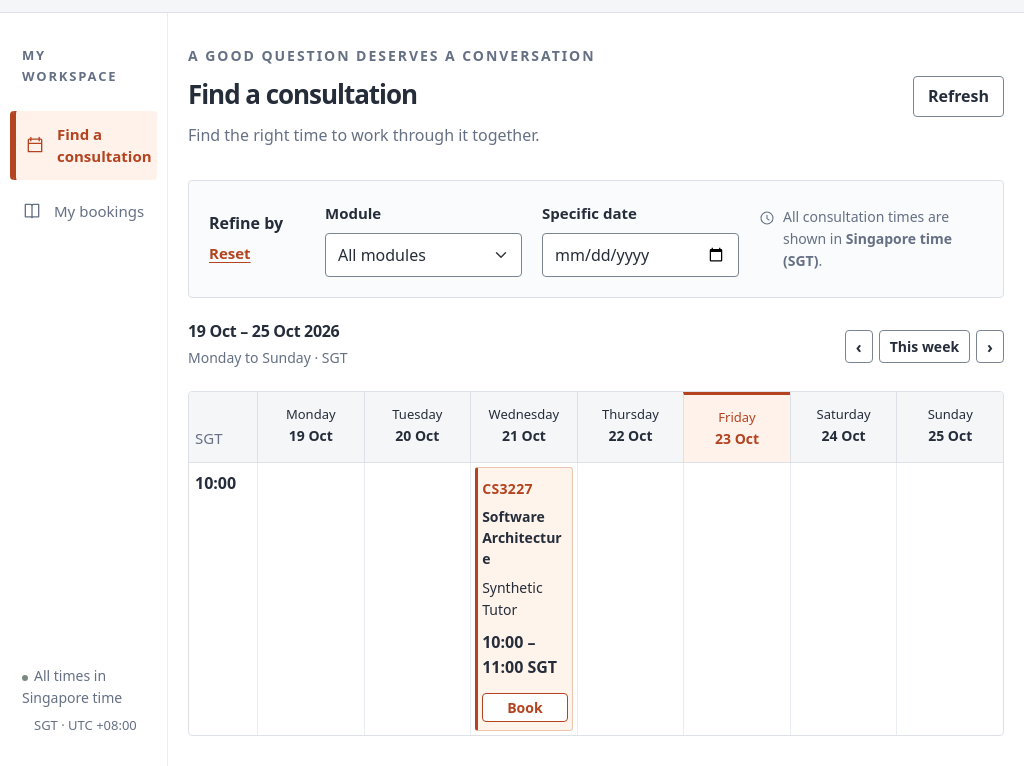
Test: FE2-BOOK BOOKING_OVERLAP has distinct safe guidance, refresh and no replay
(page scrolled)
Click the button "Book" at x=525, y=708, box [482, 693, 568, 722]
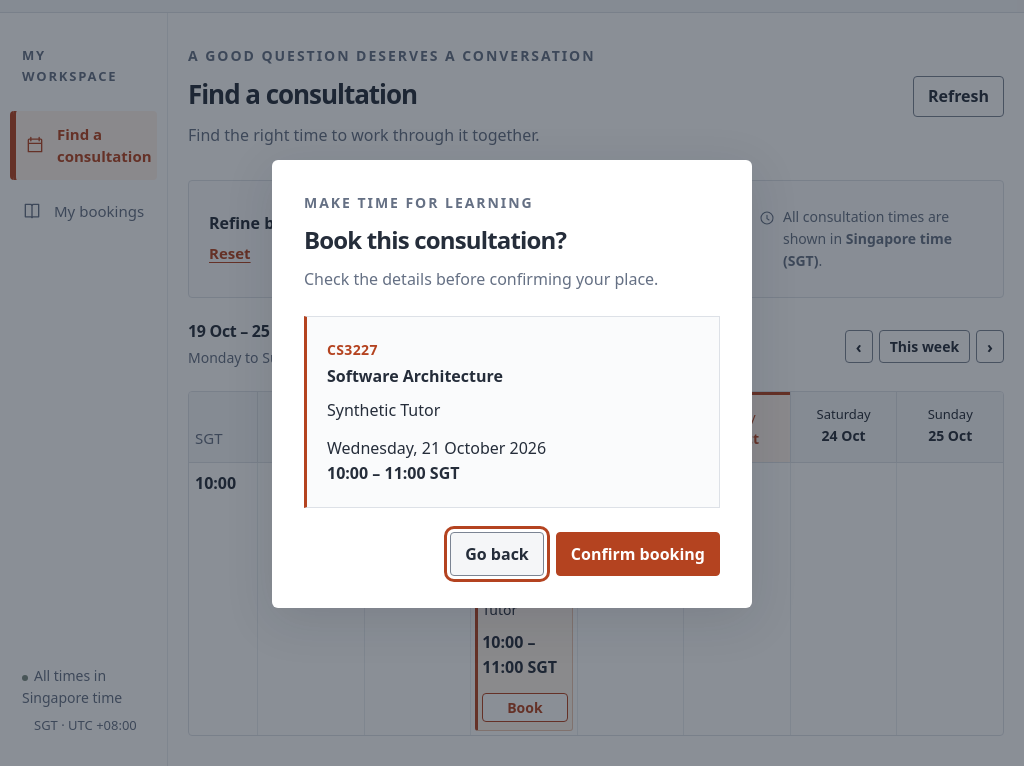
Click the button "Confirm booking" at x=638, y=554, box [556, 532, 720, 576]
(page scrolled)
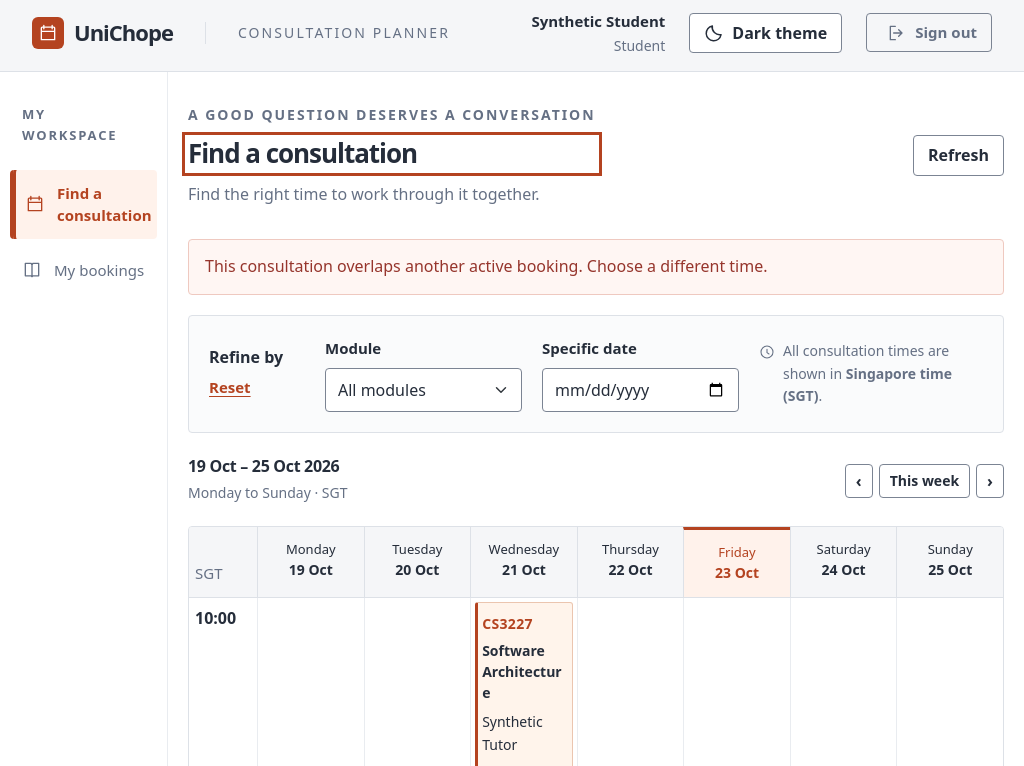
Check: the message reads "This consultation overlaps another active booking. Choose a different time.", box [205, 255, 768, 277]
